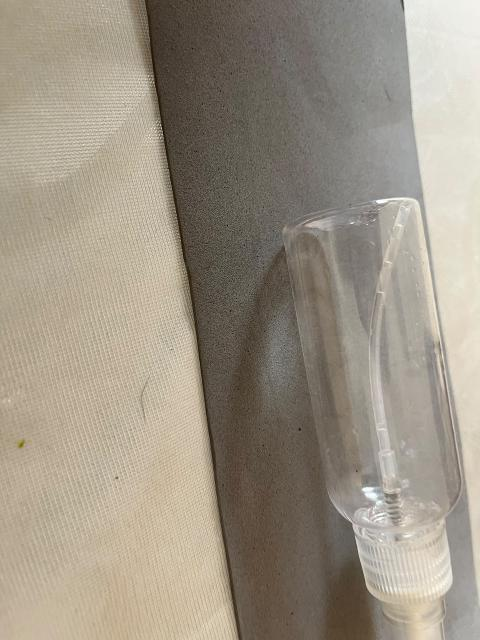PET: (216, 158, 480, 640)
